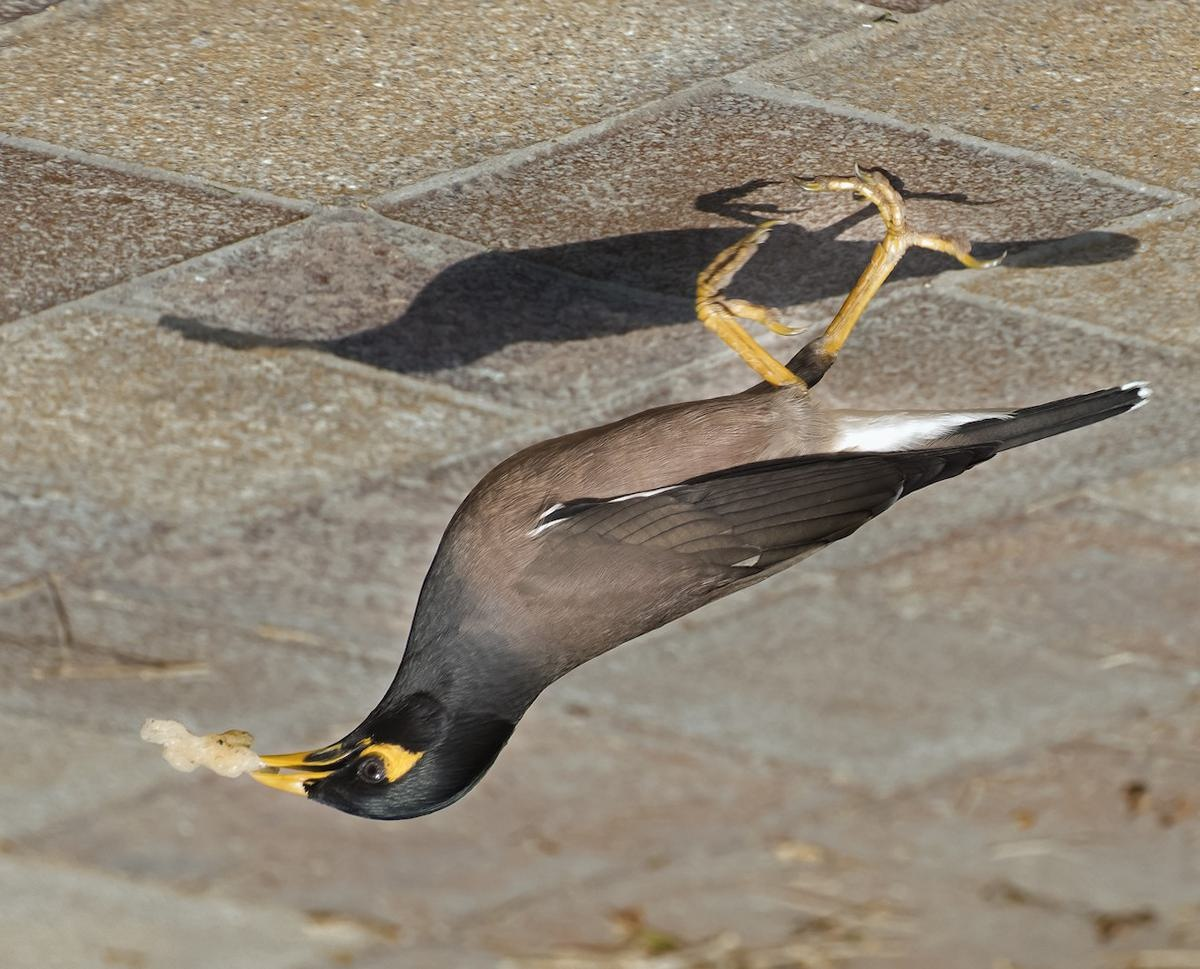myna: (227, 204, 1127, 846)
